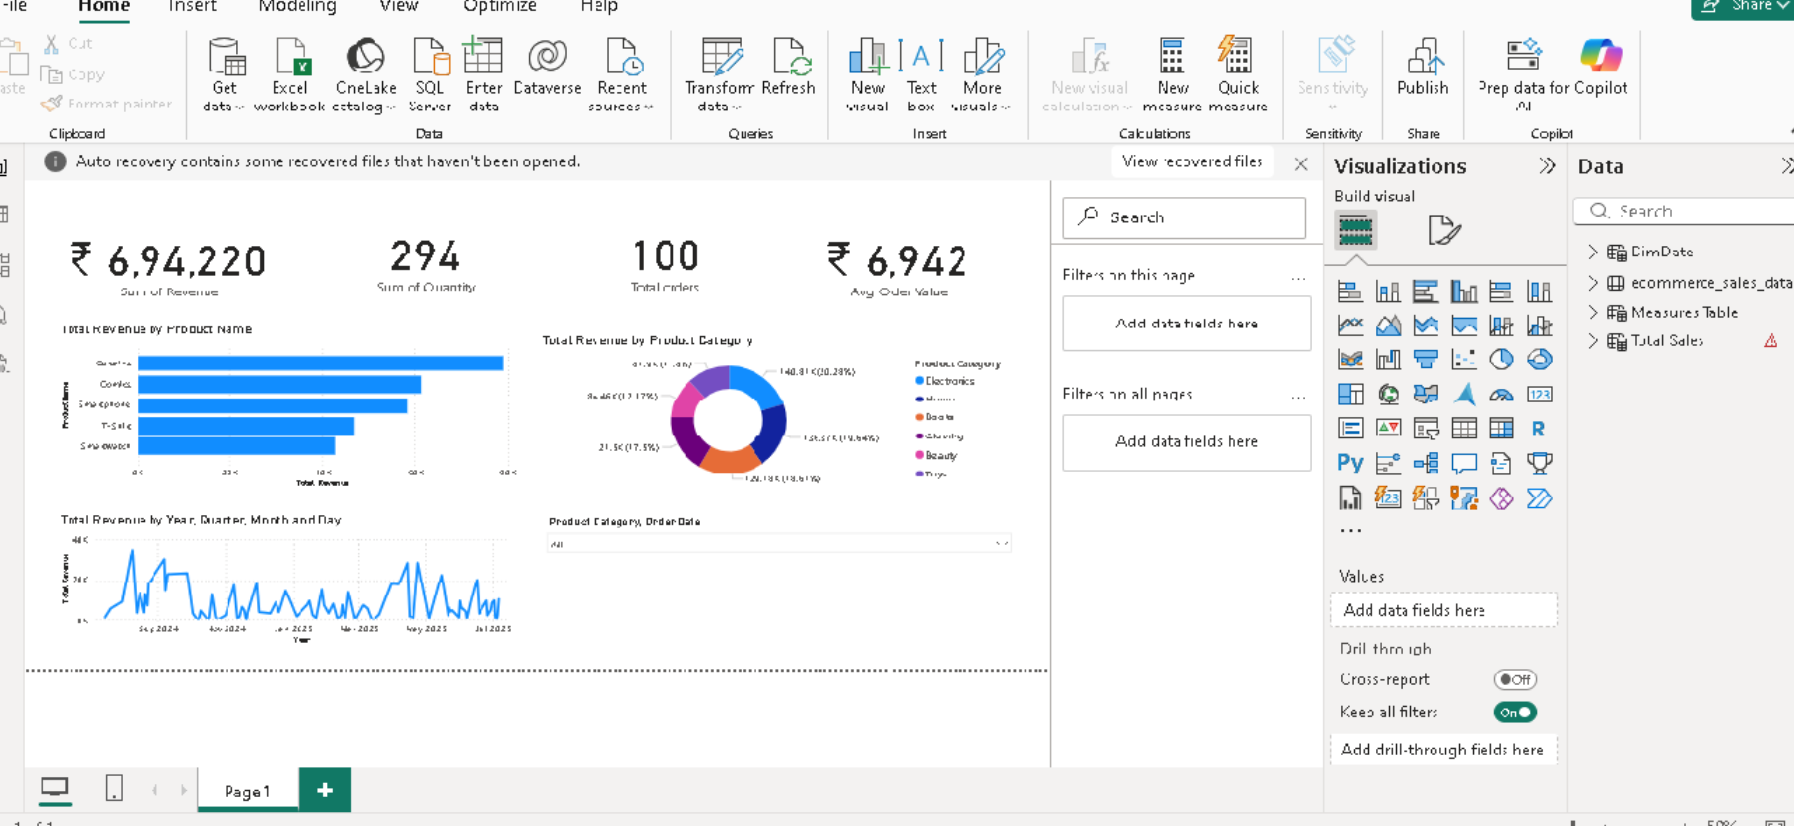

What the dashboard file says about the page in this screenshot:
{"tool":"powerbi","page":{"name":"Page 1","canvas":[1280,720],"ordinal":0},"visuals":[{"type":"card","fields":{"Values":["Sum(ecommerce_sales_data.Revenue)"]},"box":[38.7,85.8,279.2,161.5],"z":0},{"type":"card","fields":{"Values":["Sum(ecommerce_sales_data.Quantity)"]},"box":[360,70,280,176],"z":1000},{"type":"card","fields":{"Values":["ecommerce_sales_data.Total orders"]},"box":[658,70,282,176],"z":2000},{"type":"barChart","fields":{"Category":["ecommerce_sales_data.Product Name"],"Y":["ecommerce_sales_data.Total Revenue"]},"box":[38.7,245.6,578.6,230.4],"z":3000},{"type":"donutChart","fields":{"Category":["ecommerce_sales_data.Product Category"],"Y":["ecommerce_sales_data.Total Revenue"]},"box":[640,260,600,216],"z":4000},{"type":"lineChart","fields":{"Category":["ecommerce_sales_data.Order Date.Variation.Date Hierarchy.Year","ecommerce_sales_data.Order Date.Variation.Date Hierarchy.Quarter","ecommerce_sales_data.Order Date.Variation.Date Hierarchy.Month","ecommerce_sales_data.Order Date.Variation.Date Hierarchy.Day"],"Y":["ecommerce_sales_data.Total Revenue"]},"box":[38.7,506.3,578.6,183.3],"z":5000},{"type":"slicer","fields":{"Values":["ecommerce_sales_data.Product Category","ecommerce_sales_data.Order Date"]},"box":[640.8,506.3,600.5,183.3],"z":6000},{"type":"card","fields":{"Values":["ecommerce_sales_data.Avg Order Value"]},"box":[940.2,85.8,299.4,159.8],"z":7000}]}

Visuals, with their boxes on the page's 1280x720 design canvas (x1, y1, x2, y2). These are canvas units, not pixel positions in the 1794x826 screenshot, which may show the page scaled, cropped or inside an application window:
card - Sum(ecommerce_sales_data.Revenue): (39,86,318,247)
card - Sum(ecommerce_sales_data.Quantity): (360,70,640,246)
card - ecommerce_sales_data.Total orders: (658,70,940,246)
barChart - ecommerce_sales_data.Product Name x ecommerce_sales_data.Total Revenue: (39,246,617,476)
donutChart - ecommerce_sales_data.Product Category x ecommerce_sales_data.Total Revenue: (640,260,1240,476)
lineChart - ecommerce_sales_data.Order Date.Variation.Date Hierarchy.Year x ecommerce_sales_data.Order Date.Variation.Date Hierarchy.Quarter: (39,506,617,690)
slicer - ecommerce_sales_data.Product Category x ecommerce_sales_data.Order Date: (641,506,1241,690)
card - ecommerce_sales_data.Avg Order Value: (940,86,1240,246)
